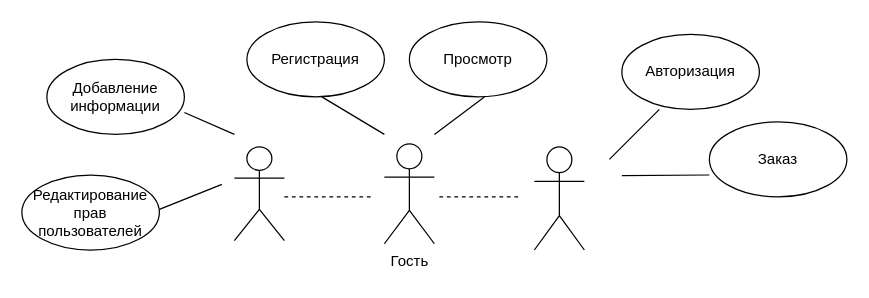
This 869x298 diagram has some shape labels left out. Each missing label, with the centre of its shape:
"Клиент" belongs at pixel 558 198.
"Руководители" belongs at pixel 258 193.
